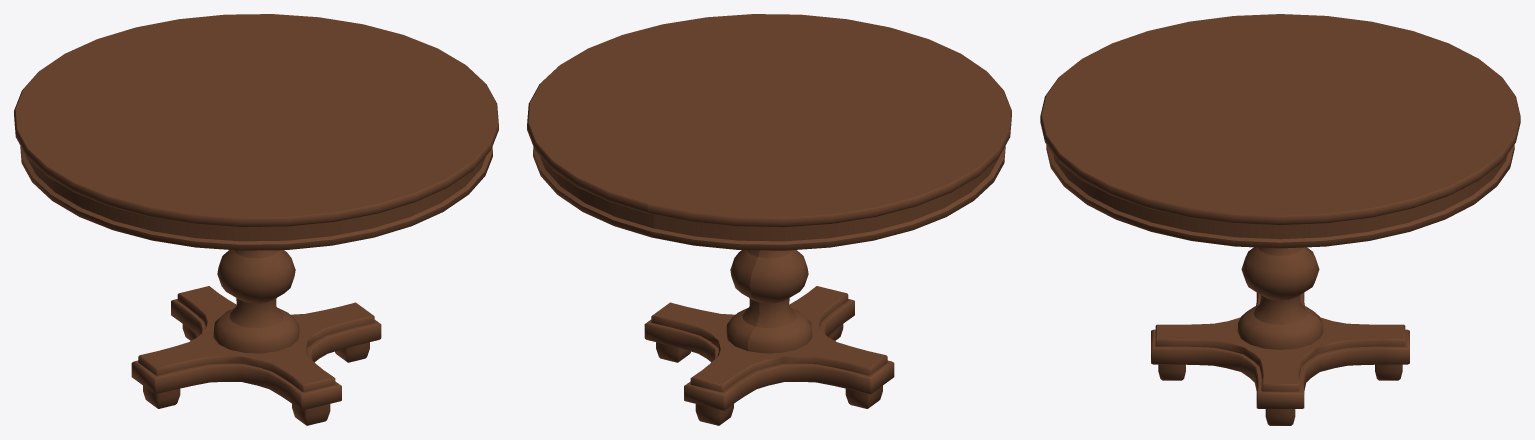
Rendered from Prop_EntryTable.glb.
3 renders of one model, left to right at view 1: azimuth 30°, elevation 25°; view 2: azimuth 150°, elevation 25°; view 3: azimuth 270°, elevation 25°, orthographic.
Parts seen in each view (by area): view 1: Prop_EntryTable; view 2: Prop_EntryTable; view 3: Prop_EntryTable.
Boxes of the visible parts, x1,y1,x2,y2 form: Prop_EntryTable: [14, 14, 498, 425]; Prop_EntryTable: [527, 14, 1011, 425]; Prop_EntryTable: [1040, 14, 1520, 425].
Size of the model in its own units: 1.45 by 0.8722 by 1.45.
